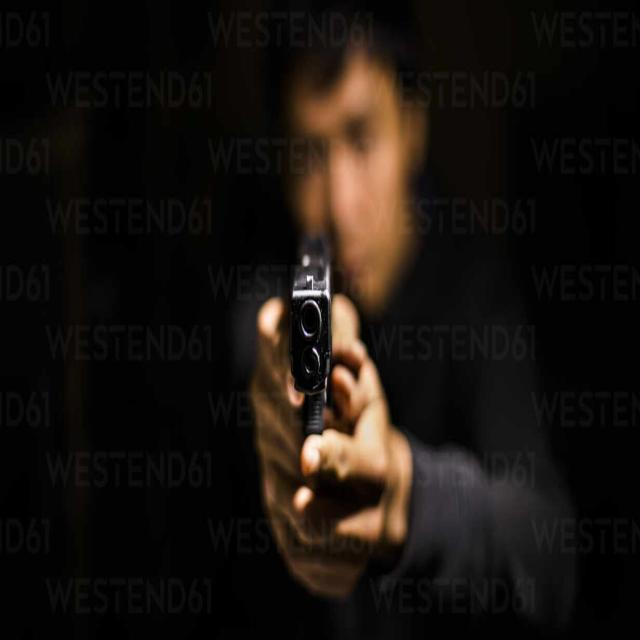HandGun: (286, 236, 332, 440)
